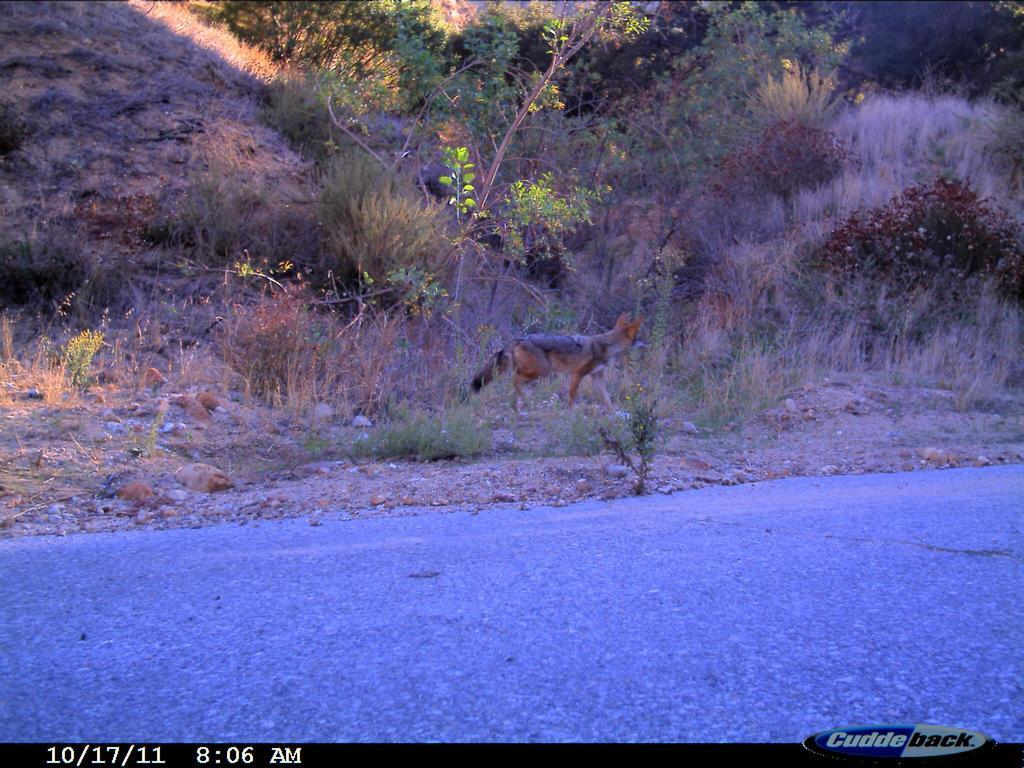coyote: (466, 308, 648, 419)
